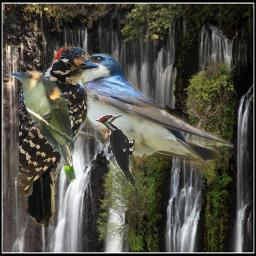Cuckoo: (7, 69, 79, 187)
Swallow: (72, 53, 234, 174)
Woodpecker: (19, 44, 99, 231), (95, 114, 135, 191)
